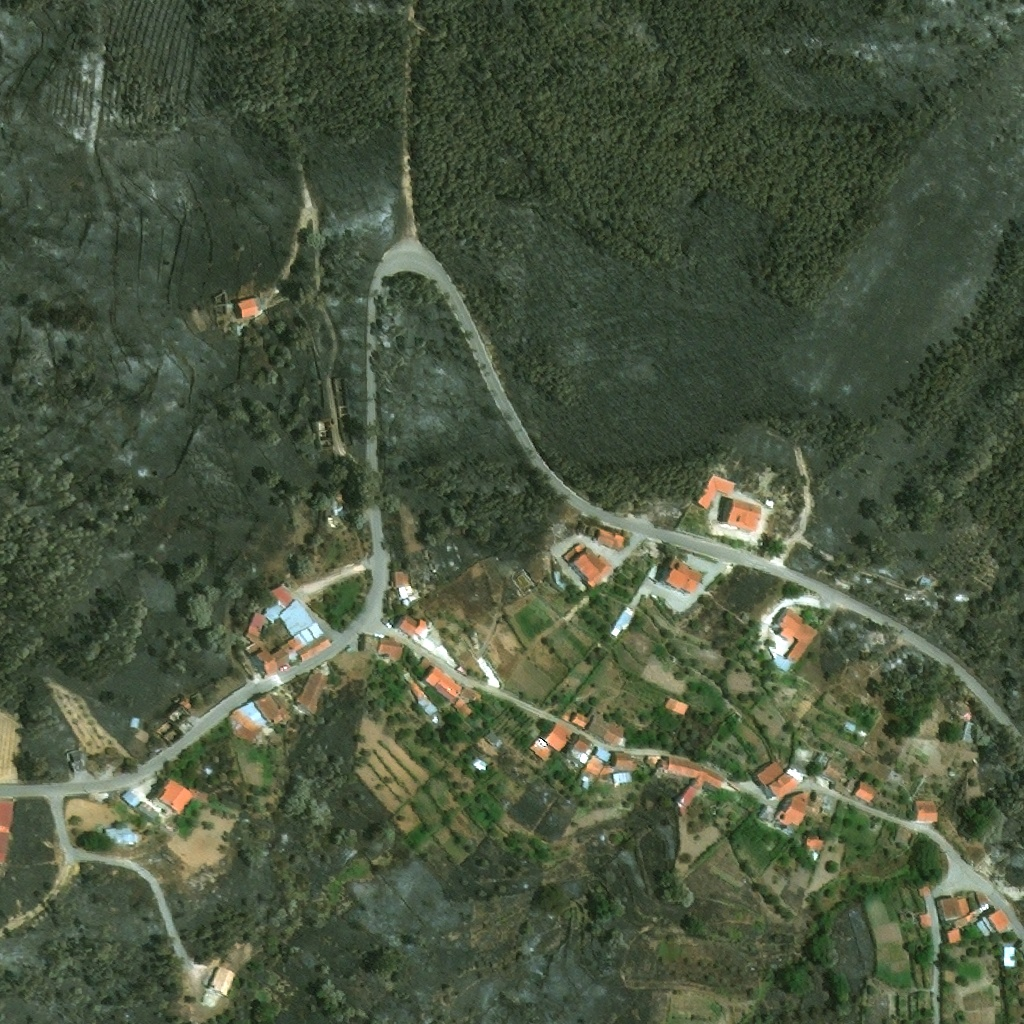0 no-damage: (662, 756, 727, 808), (228, 692, 294, 743), (777, 607, 822, 662), (564, 541, 615, 589), (402, 667, 440, 717), (529, 721, 573, 761), (294, 668, 331, 714), (777, 792, 825, 827), (694, 472, 737, 510), (201, 966, 238, 1008), (359, 631, 403, 666), (579, 520, 628, 551), (663, 555, 704, 592), (424, 665, 464, 702), (588, 713, 630, 748), (720, 498, 762, 531), (159, 776, 195, 813), (769, 766, 809, 799), (279, 599, 315, 635), (580, 752, 609, 791), (947, 910, 979, 944), (391, 571, 423, 603), (0, 798, 15, 864), (814, 752, 845, 783), (298, 634, 332, 661), (789, 745, 819, 775), (610, 605, 637, 637), (273, 638, 301, 667), (937, 897, 970, 921), (242, 611, 267, 642), (569, 734, 595, 763), (755, 761, 785, 786), (400, 613, 429, 638), (987, 908, 1013, 934), (106, 825, 141, 844), (270, 583, 294, 609), (235, 297, 262, 319), (854, 780, 879, 803), (664, 695, 690, 716), (137, 800, 162, 821), (915, 800, 938, 822), (975, 915, 997, 937), (961, 721, 981, 745), (262, 603, 285, 623), (483, 728, 504, 748), (758, 804, 779, 823), (615, 752, 638, 769), (455, 698, 475, 717), (121, 788, 141, 807), (555, 561, 568, 590), (462, 687, 483, 704), (571, 711, 591, 728), (1003, 944, 1017, 967), (595, 746, 613, 763), (285, 551, 301, 570), (613, 772, 633, 787), (309, 621, 325, 639), (976, 892, 991, 910), (294, 631, 308, 648), (806, 835, 825, 847), (473, 758, 489, 772), (301, 627, 315, 643), (919, 913, 932, 929), (599, 763, 615, 776), (895, 829, 909, 843), (194, 789, 210, 801), (834, 779, 847, 793), (419, 657, 432, 671), (845, 720, 858, 732), (919, 886, 930, 897), (419, 678, 429, 688), (401, 598, 412, 607), (766, 498, 776, 507), (647, 756, 662, 761), (819, 817, 826, 824), (949, 771, 955, 776), (861, 731, 867, 736)
1 minor-damage: (244, 636, 279, 678)
2 major-damage: (326, 493, 350, 528)
3 destroyed: (155, 696, 192, 743), (65, 746, 91, 771), (317, 417, 335, 449), (903, 590, 928, 607), (422, 547, 436, 576), (919, 575, 937, 591), (129, 715, 142, 730), (561, 524, 574, 537), (226, 302, 235, 313)
